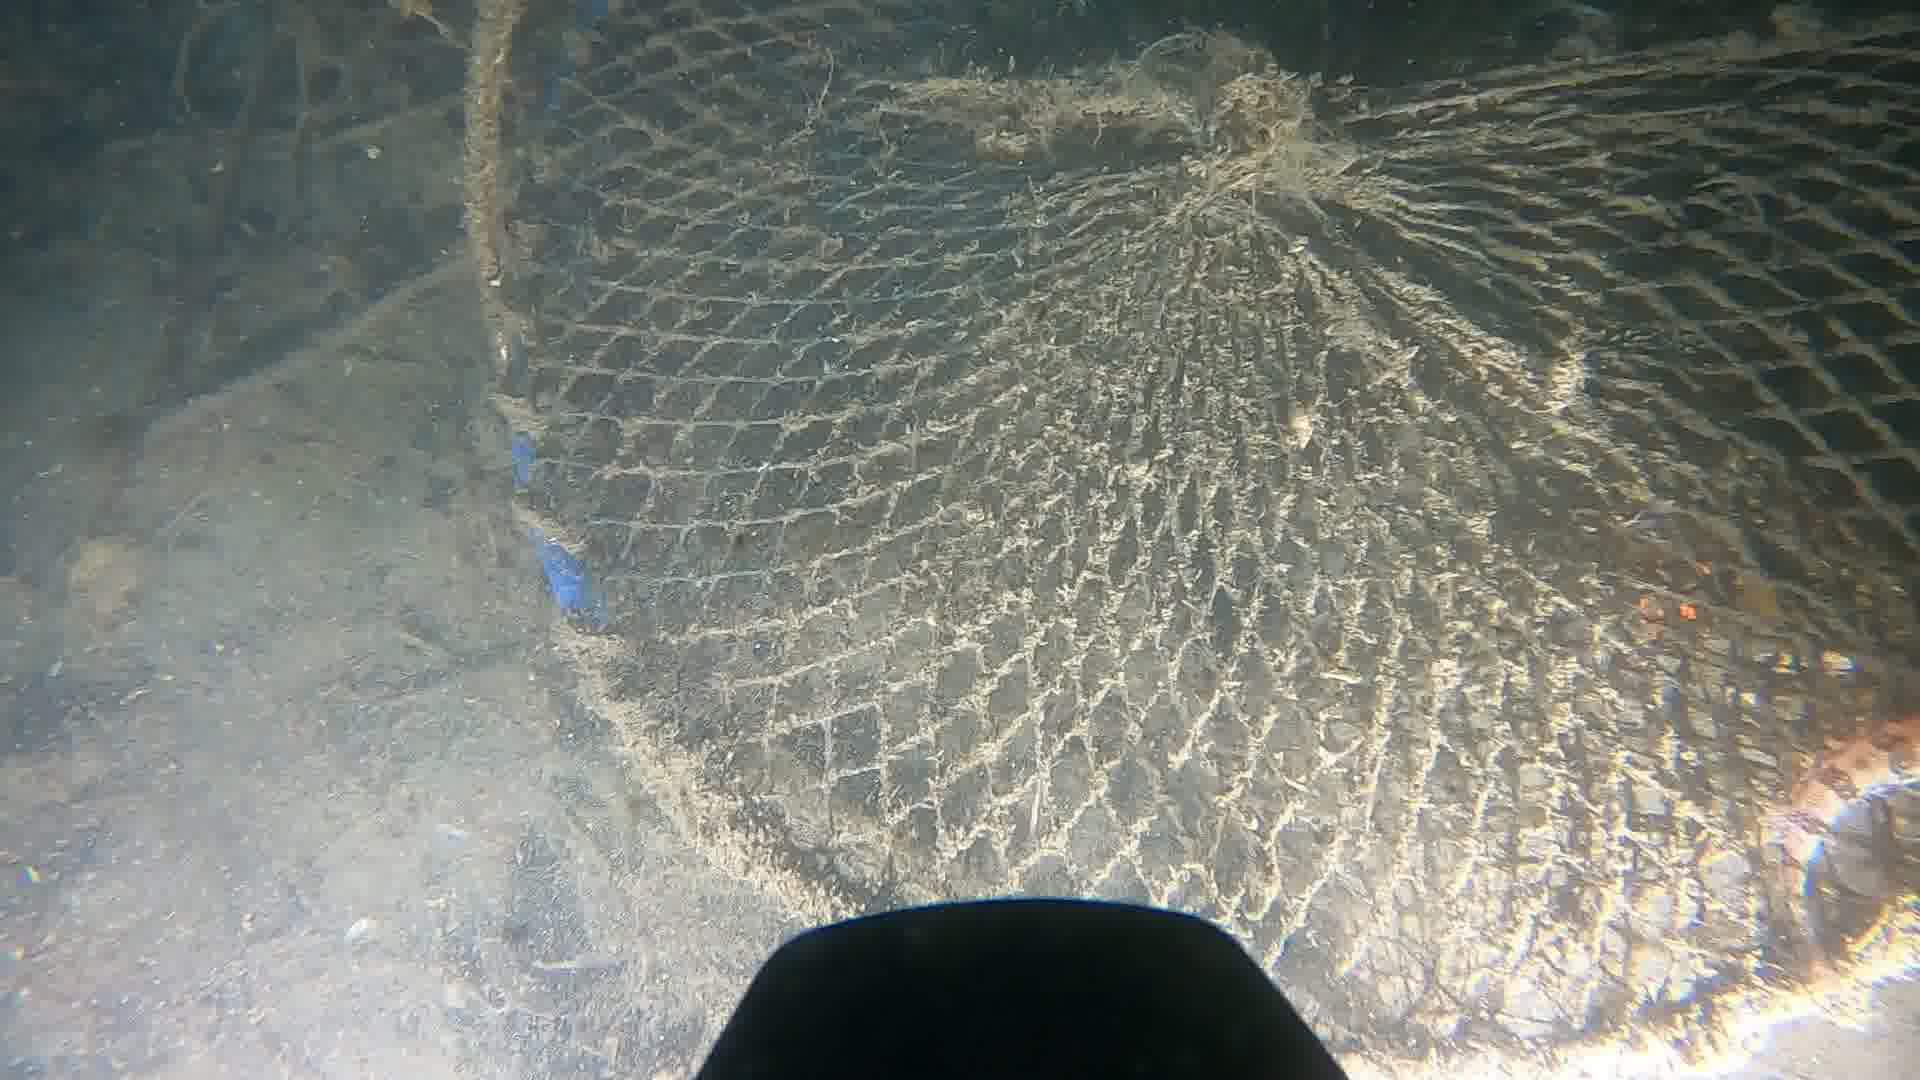circular fish trap: (462, 0, 1920, 1080)
